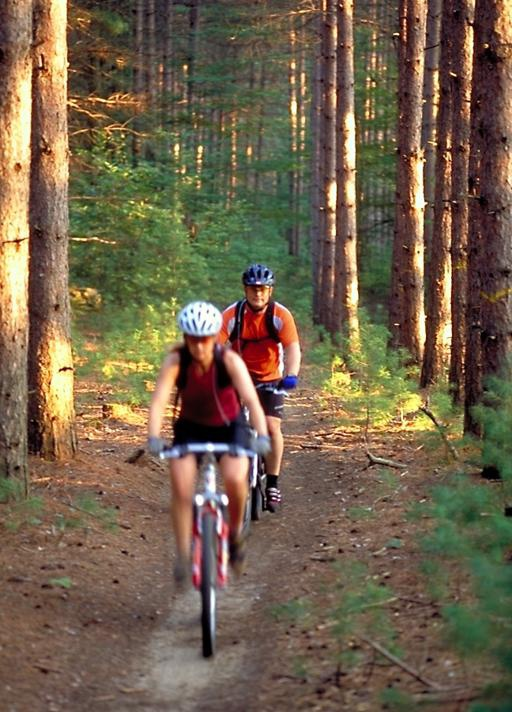non-vehicle: (154, 439, 262, 660), (242, 377, 293, 522)
